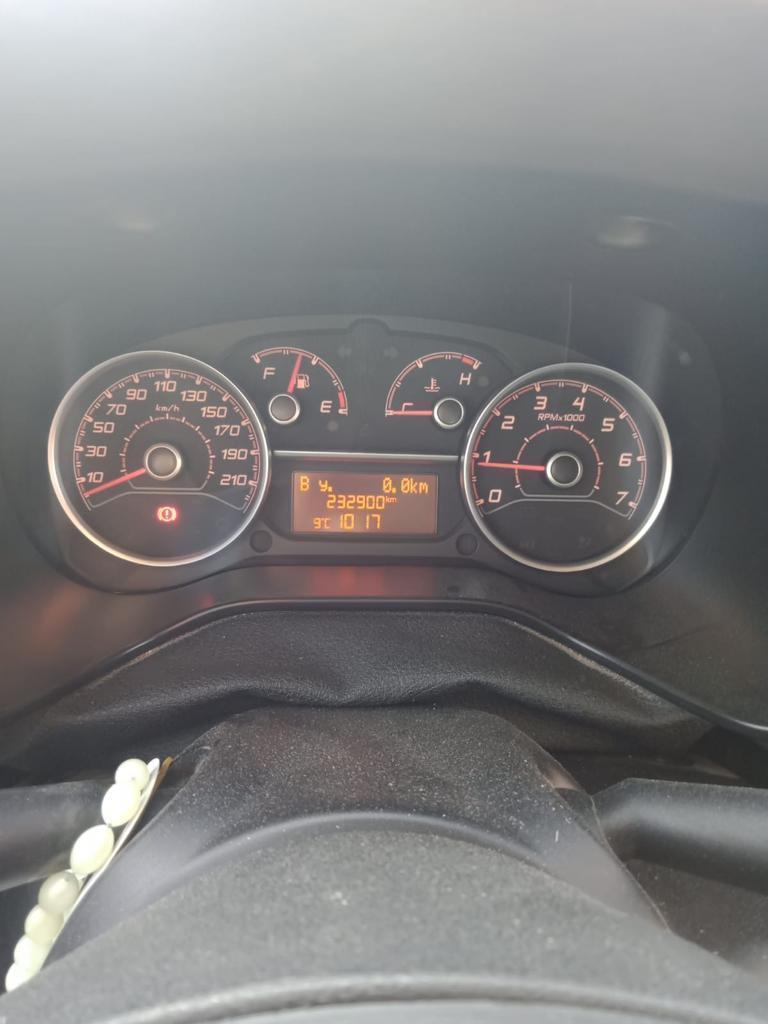,: (327, 485, 333, 492), (391, 486, 396, 493)
0: (381, 475, 392, 493), (343, 512, 354, 529), (365, 494, 375, 509), (400, 477, 409, 493), (375, 495, 384, 510)
1: (364, 513, 370, 529), (338, 514, 343, 529)
2: (325, 493, 336, 509), (345, 494, 355, 509)
3: (336, 494, 345, 508)
7: (371, 513, 381, 528)
9: (356, 494, 365, 509), (312, 517, 321, 529)
X: (299, 474, 310, 492), (418, 480, 429, 494), (409, 477, 418, 494), (317, 478, 327, 492), (324, 516, 330, 529), (389, 497, 397, 503), (384, 494, 389, 503)
odometer: (284, 466, 445, 541)
